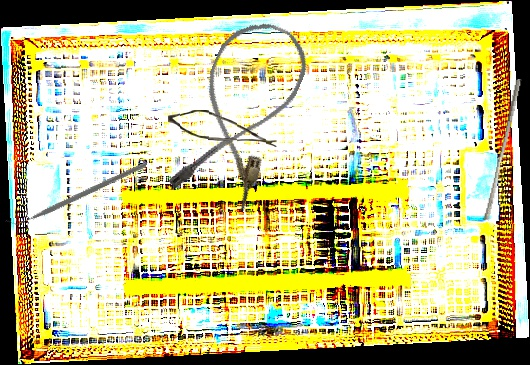Cannula: (163, 8, 318, 218)
Chopper: (5, 114, 148, 270)
Micro Scissor: (167, 109, 279, 147)
Pusher: (483, 77, 522, 222)
